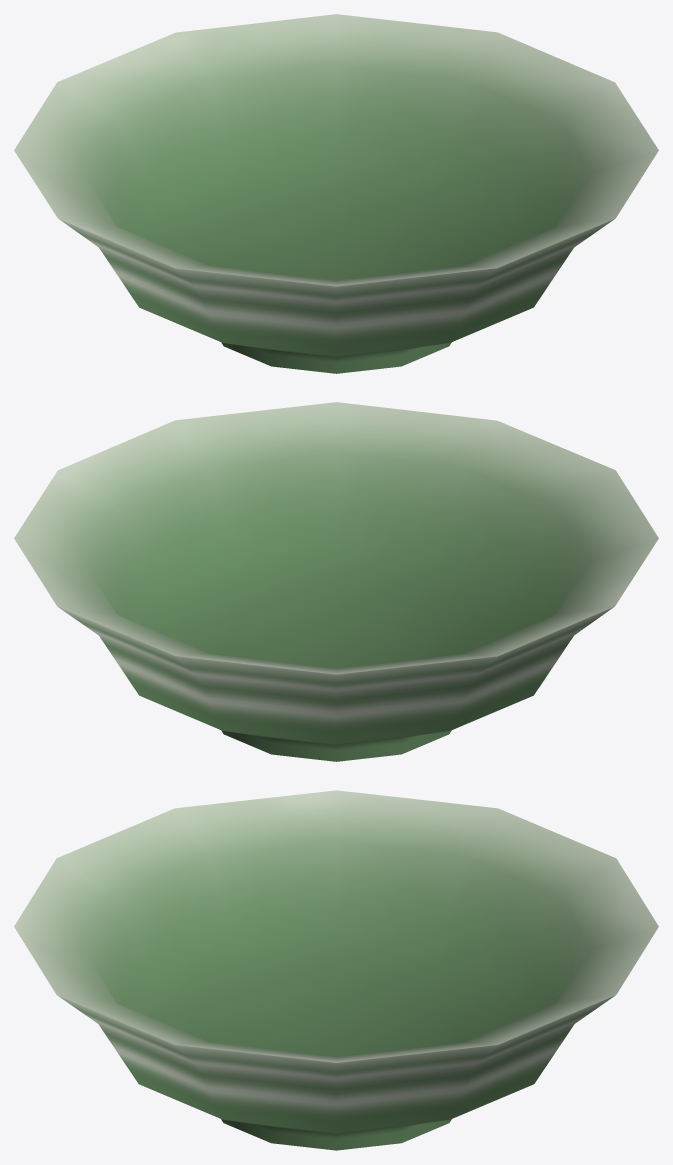
Rendered from KR_Deer_dish_01_01.fbx.
3 views of the same model, one above another, from view 1: azimuth 30°, elevation 25°; view 2: azimuth 150°, elevation 25°; view 3: azimuth 270°, elevation 25° (orthographic).
Visible parts, largest first — view 1: kr_deer_dish_01_01; view 2: kr_deer_dish_01_01; view 3: kr_deer_dish_01_01.
Part boxes in pixels (x1=…): kr_deer_dish_01_01: x1=14, y1=14, x2=658, y2=373; kr_deer_dish_01_01: x1=14, y1=402, x2=658, y2=761; kr_deer_dish_01_01: x1=14, y1=790, x2=658, y2=1150.
Size of the model in its own units: 12 by 3.47 by 12.
